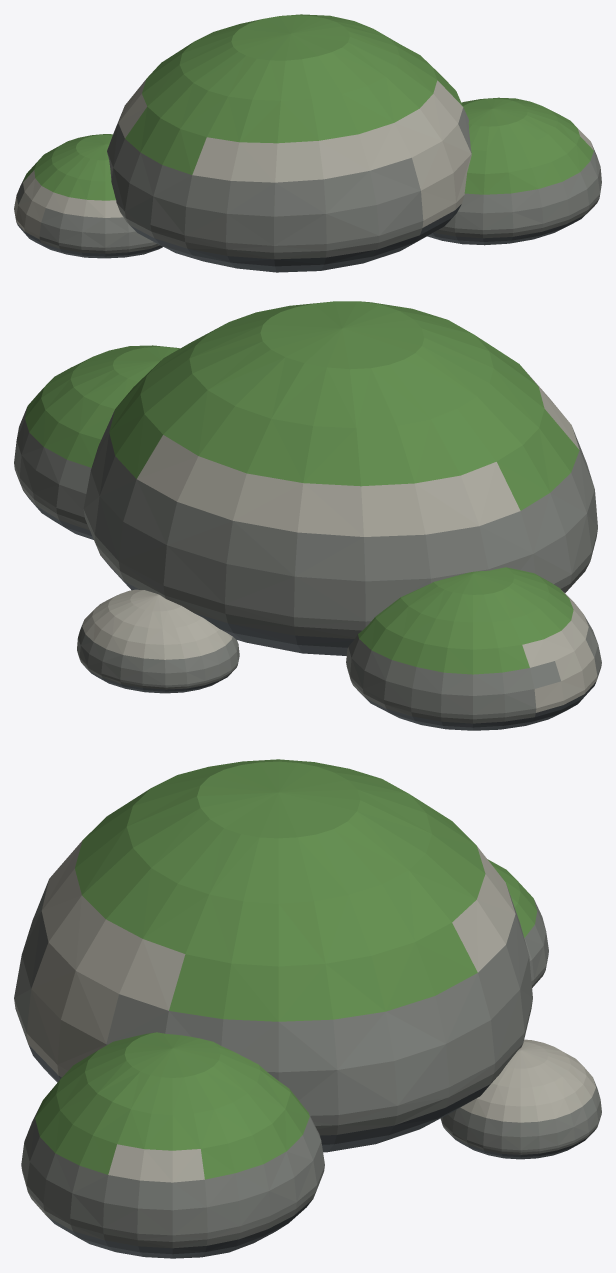
Rendered from RockCluster.obj.
3 views of the same model, one above another, from view 1: azimuth 30°, elevation 25°; view 2: azimuth 150°, elevation 25°; view 3: azimuth 270°, elevation 25° (orthographic). The views are drawn at different scales.
Bounding box in the file's own units: 5.53 × 2.28 × 3.89.
